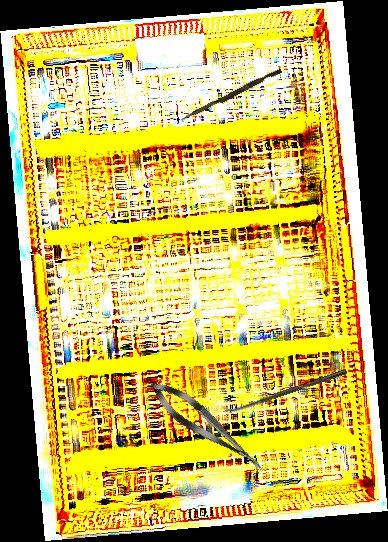Micro Scissor: (143, 372, 272, 482)
Pusher: (179, 66, 283, 125)
Surgical Spoon: (222, 368, 348, 416)
